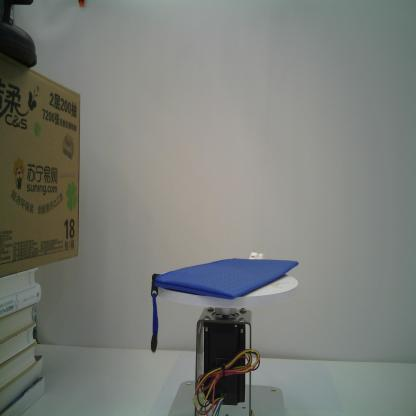Stationery: (145, 250, 300, 356)
